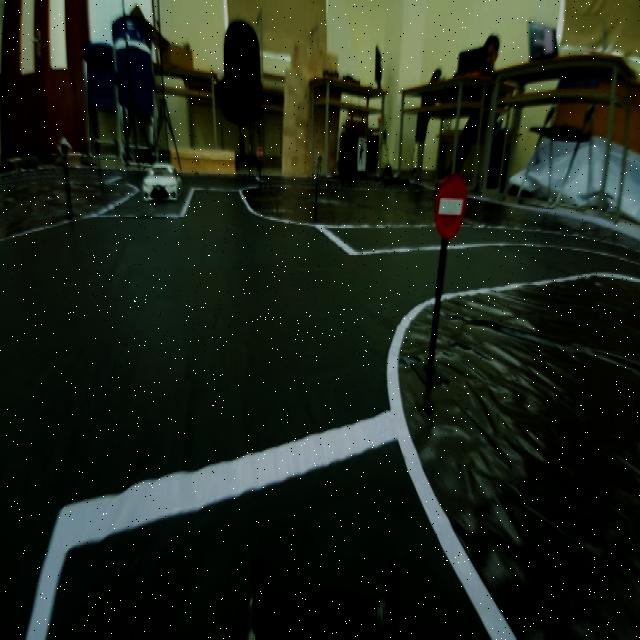no_entry: (434, 166, 462, 233)
